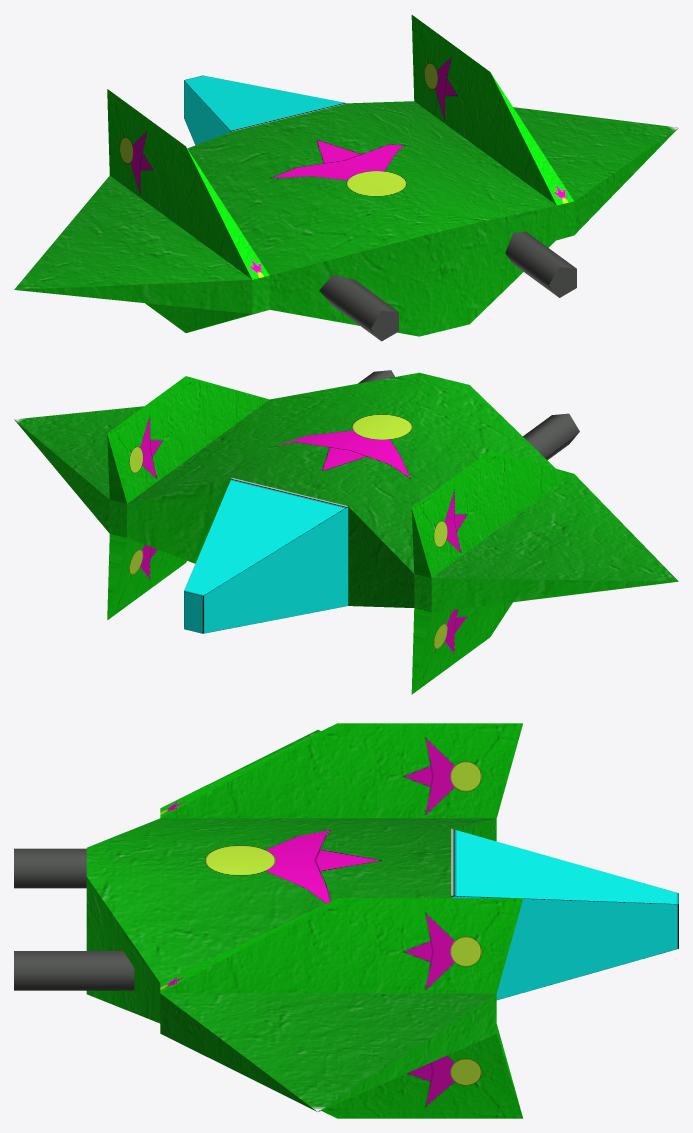
Rendered from EnemyShip1.FBX.
3 renders of one model, top to bottom at view 1: azimuth 30°, elevation 25°; view 2: azimuth 150°, elevation 25°; view 3: azimuth 270°, elevation 25°, orthographic. The views are drawn at different scales.
Visible parts, largest first — view 1: Box01; view 2: Box01; view 3: Box01.
Boxes of the visible parts, <box> form: Box01: <box>14,15,678,341</box>; Box01: <box>14,370,678,694</box>; Box01: <box>14,723,678,1118</box>.
Size of the model in its own units: 27.48 by 7.38 by 20.19.
1 material, 1 textured.
